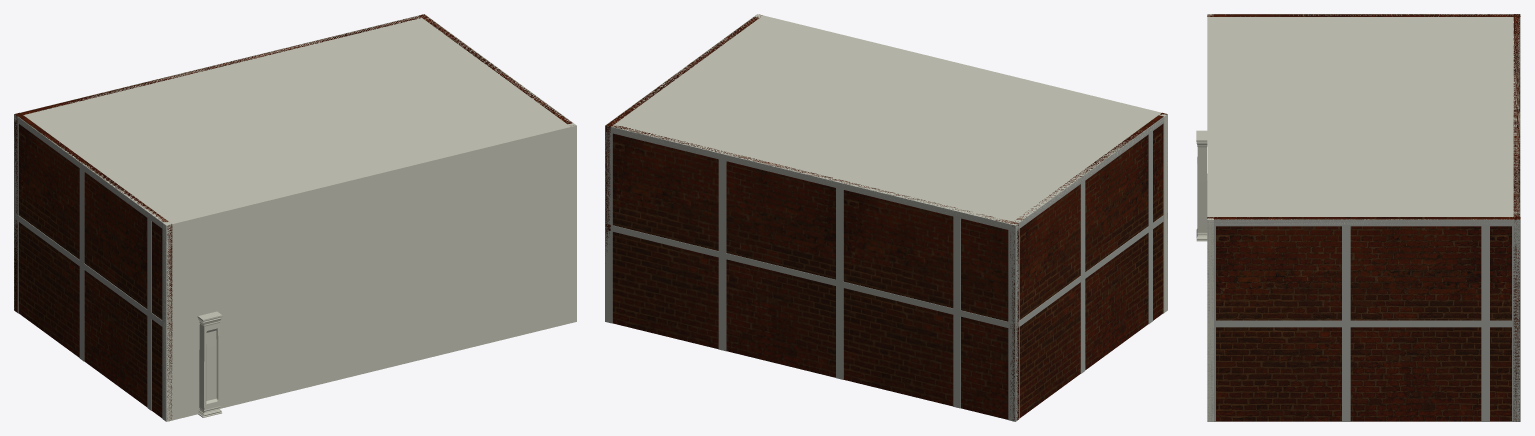
File: building.glb
The picture shows the model from 3 angles, left to right: view 1: azimuth 30°, elevation 25°; view 2: azimuth 150°, elevation 25°; view 3: azimuth 270°, elevation 25°; orthographic projection. The views are drawn at different scales.
Visible parts, largest first — view 1: house:0/edge0/z0/house:0/edge0/z0/wall_0_0, roof/house:0/roof_slab#0001, house:0/edge3/z0/house:0/edge3/z0/wall_0_0, house:0/edge2/z0/house:0/edge2/z0/wall_0_0, vertical_member/republicano_recessed_panel/member_shaft#0001, house:0/edge3/z0/house:0/edge3/z0/beam_0_0, house:0/edge3/z0/house:0/edge3/z0/beam_1_0, house:0/edge1/z0/house:0/edge1/z0/wall_0_0, house:0/edge3/z0/house:0/edge3/z0/column_2_1, house:0/edge3/z0/house:0/edge3/z0/column_2_0; view 2: house:0/edge2/z0/house:0/edge2/z0/wall_0_0, roof/house:0/roof_slab#0001, house:0/edge3/z0/house:0/edge3/z0/wall_0_0, house:0/edge2/z0/house:0/edge2/z0/beam_0_0, house:0/edge2/z0/house:0/edge2/z0/beam_1_0, house:0/edge0/z0/house:0/edge0/z0/wall_0_0, house:0/edge1/z0/house:0/edge1/z0/wall_0_0, house:0/edge3/z0/house:0/edge3/z0/beam_0_0, house:0/edge3/z0/house:0/edge3/z0/beam_1_0, house:0/edge2/z0/house:0/edge2/z0/column_2_0, house:0/edge2/z0/house:0/edge2/z0/column_2_1, house:0/edge2/z0/house:0/edge2/z0/column_3_0 (+9 smaller); view 3: roof/house:0/roof_slab#0001, house:0/edge1/z0/house:0/edge1/z0/wall_0_0, house:0/edge0/z0/house:0/edge0/z0/wall_0_0, house:0/edge1/z0/house:0/edge1/z0/beam_0_0, house:0/edge2/z0/house:0/edge2/z0/wall_0_0, house:0/edge1/z0/house:0/edge1/z0/beam_1_0, house:0/edge3/z0/house:0/edge3/z0/wall_0_0, vertical_member/republicano_recessed_panel/member_shaft#0001, house:0/edge1/z0/house:0/edge1/z0/column_2_0, house:0/edge1/z0/house:0/edge1/z0/column_2_1, house:0/edge1/z0/house:0/edge1/z0/column_3_0, house:0/edge1/z0/house:0/edge1/z0/column_3_1 (+4 smaller).
Boxes of the visible parts, box(x1,y1,x2,y2) form: house:0/edge0/z0/house:0/edge0/z0/wall_0_0: box(163, 123, 576, 421); roof/house:0/roof_slab#0001: box(14, 15, 576, 228); house:0/edge3/z0/house:0/edge3/z0/wall_0_0: box(15, 112, 172, 419); house:0/edge2/z0/house:0/edge2/z0/wall_0_0: box(14, 15, 425, 312); vertical_member/republicano_recessed_panel/member_shaft#0001: box(199, 323, 220, 409); house:0/edge3/z0/house:0/edge3/z0/beam_0_0: box(14, 213, 166, 328); house:0/edge3/z0/house:0/edge3/z0/beam_1_0: box(14, 114, 166, 231); house:0/edge1/z0/house:0/edge1/z0/wall_0_0: box(419, 14, 573, 125); house:0/edge3/z0/house:0/edge3/z0/column_2_1: box(79, 267, 84, 361); house:0/edge3/z0/house:0/edge3/z0/column_2_0: box(79, 168, 84, 262); house:0/edge2/z0/house:0/edge2/z0/wall_0_0: box(612, 125, 1018, 420); roof/house:0/roof_slab#0001: box(609, 15, 1164, 228); house:0/edge3/z0/house:0/edge3/z0/wall_0_0: box(1010, 112, 1166, 420); house:0/edge2/z0/house:0/edge2/z0/beam_0_0: box(605, 225, 1015, 329); house:0/edge2/z0/house:0/edge2/z0/beam_1_0: box(605, 126, 1015, 231); house:0/edge0/z0/house:0/edge0/z0/wall_0_0: box(754, 14, 1167, 312); house:0/edge1/z0/house:0/edge1/z0/wall_0_0: box(605, 14, 762, 250); house:0/edge3/z0/house:0/edge3/z0/beam_0_0: box(1015, 212, 1167, 329); house:0/edge3/z0/house:0/edge3/z0/beam_1_0: box(1015, 117, 1164, 230); house:0/edge2/z0/house:0/edge2/z0/column_2_0: box(718, 159, 726, 252); house:0/edge2/z0/house:0/edge2/z0/column_2_1: box(718, 257, 726, 351); house:0/edge2/z0/house:0/edge2/z0/column_3_0: box(836, 188, 843, 281); roof/house:0/roof_slab#0001: box(1207, 14, 1520, 224); house:0/edge1/z0/house:0/edge1/z0/wall_0_0: box(1207, 217, 1520, 421); house:0/edge0/z0/house:0/edge0/z0/wall_0_0: box(1207, 14, 1213, 421); house:0/edge1/z0/house:0/edge1/z0/beam_0_0: box(1208, 320, 1520, 327); house:0/edge2/z0/house:0/edge2/z0/wall_0_0: box(1513, 14, 1519, 421); house:0/edge1/z0/house:0/edge1/z0/beam_1_0: box(1207, 219, 1520, 226); house:0/edge3/z0/house:0/edge3/z0/wall_0_0: box(1207, 14, 1520, 16); vertical_member/republicano_recessed_panel/member_shaft#0001: box(1197, 147, 1207, 232); house:0/edge1/z0/house:0/edge1/z0/column_2_0: box(1342, 226, 1350, 320); house:0/edge1/z0/house:0/edge1/z0/column_2_1: box(1342, 327, 1350, 421); house:0/edge1/z0/house:0/edge1/z0/column_3_0: box(1481, 226, 1489, 320); house:0/edge1/z0/house:0/edge1/z0/column_3_1: box(1481, 327, 1489, 421).
Size of the model in its own units: 14 by 6.4 by 9.31.
Materials: 3 (1 with a texture image).
